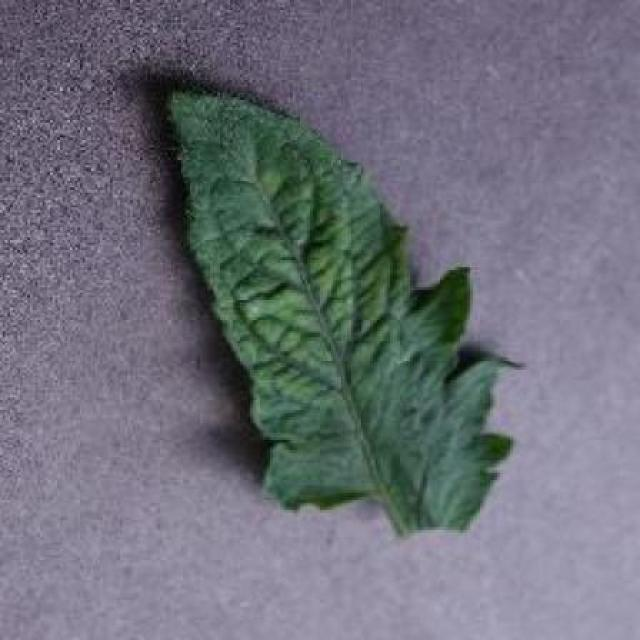Mosaic Virus: (157, 85, 529, 542)
